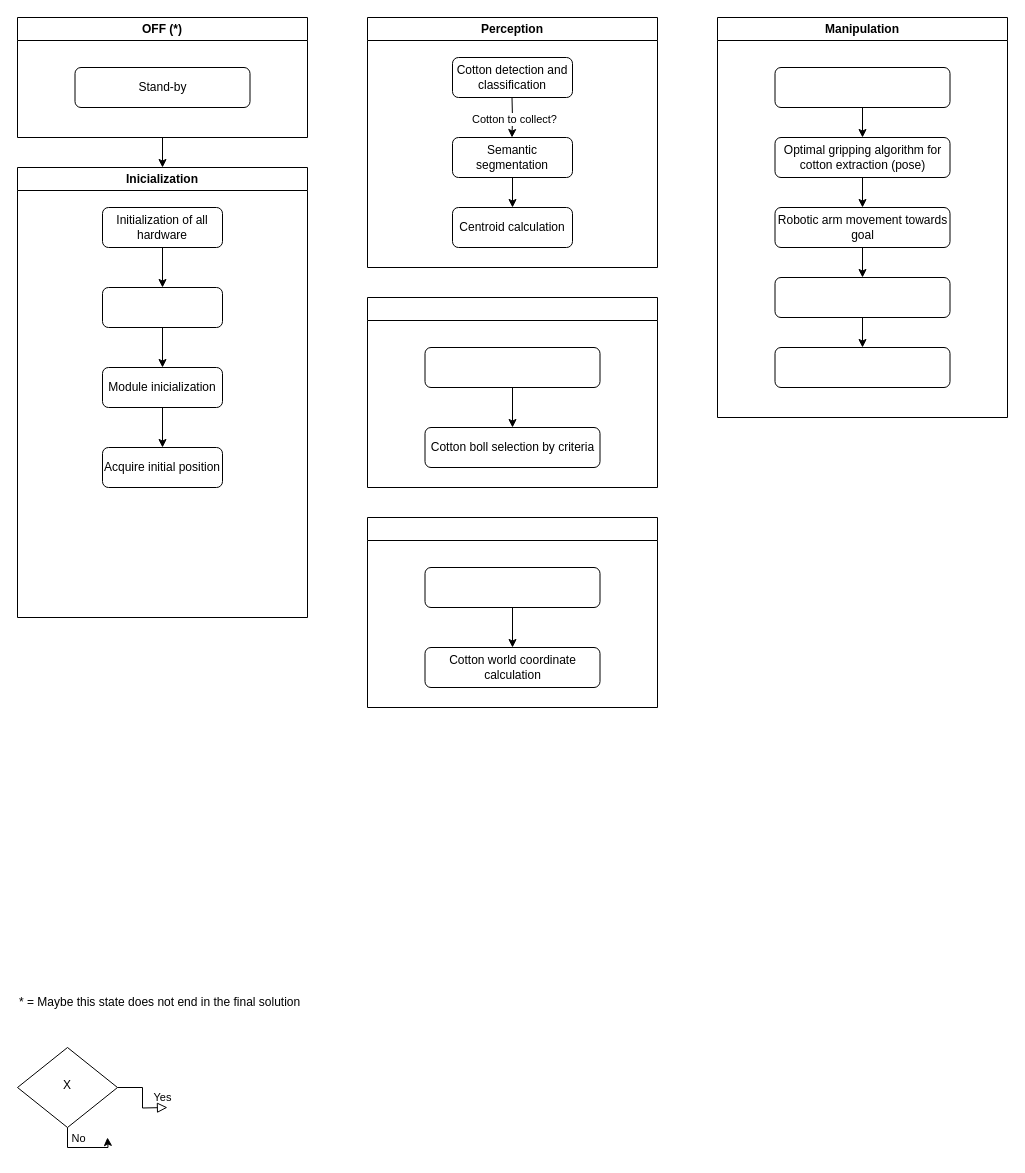
This 1025x1173 diagram has some shape labels left out. Each missing label, with the box of its shape:
Coordinate system initialization: (102, 286, 222, 328)
Cotton boll depth: (424, 566, 600, 608)
Cotton boll sellection: (366, 296, 658, 488)
Cotton boll vacuum (turn on vacuum / turn off): (774, 276, 950, 318)
Localization: (366, 516, 658, 708)
Obstacle evasion algorithm for robotic arm path planning: (774, 66, 950, 108)
Priority criteria application: (424, 346, 600, 388)
Robot to initial position before collection: (774, 346, 950, 388)
